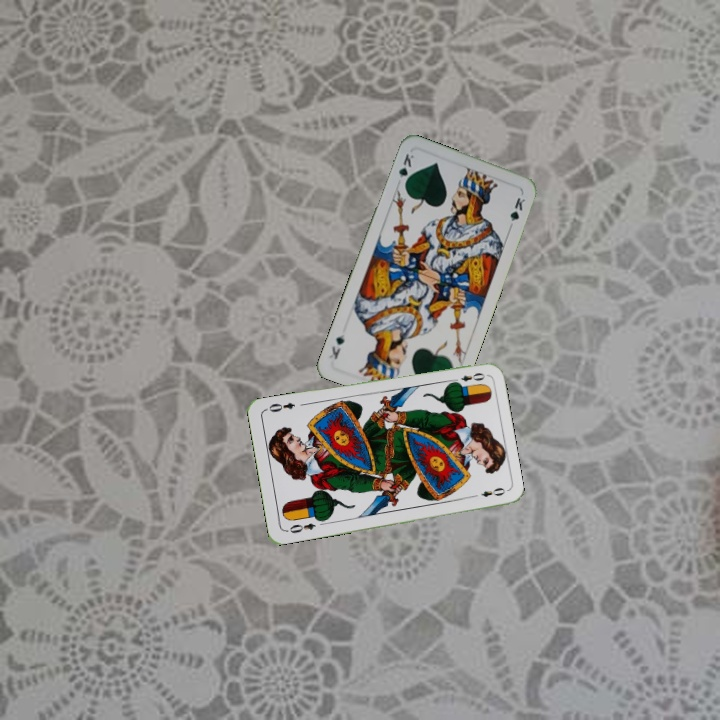EO: (448, 369, 487, 387), (282, 519, 318, 536)
GK: (395, 149, 417, 189)
